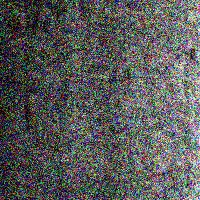crazing: (3, 39, 199, 149), (0, 1, 96, 34)
